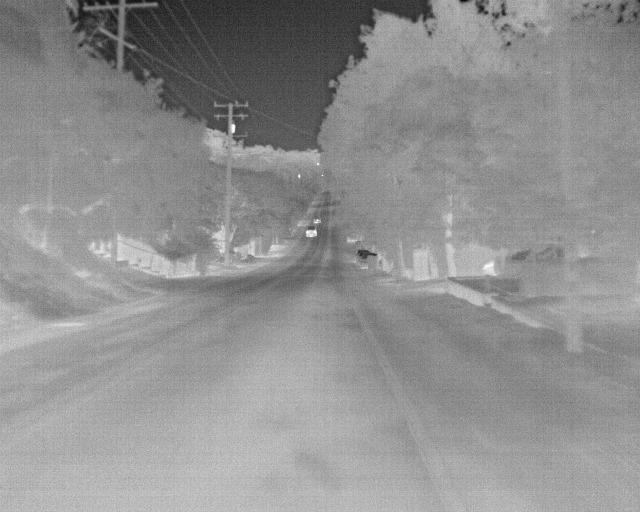car: (481, 243, 562, 274), (303, 223, 318, 241)
